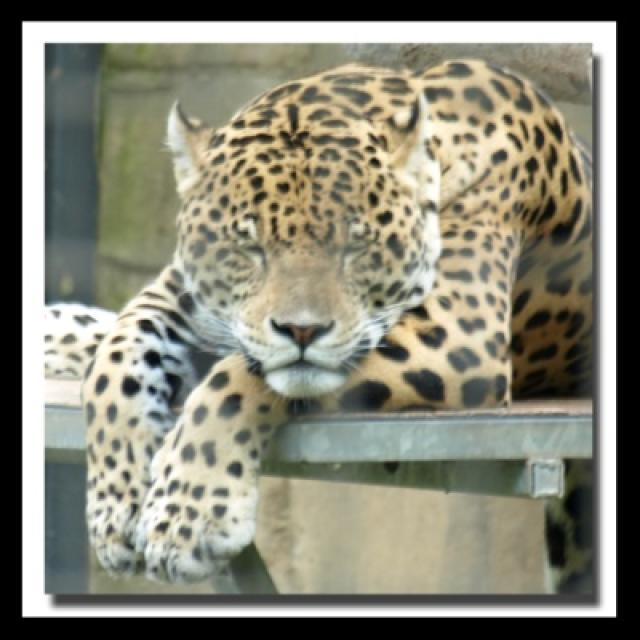Jaguar: (88, 49, 600, 581)
